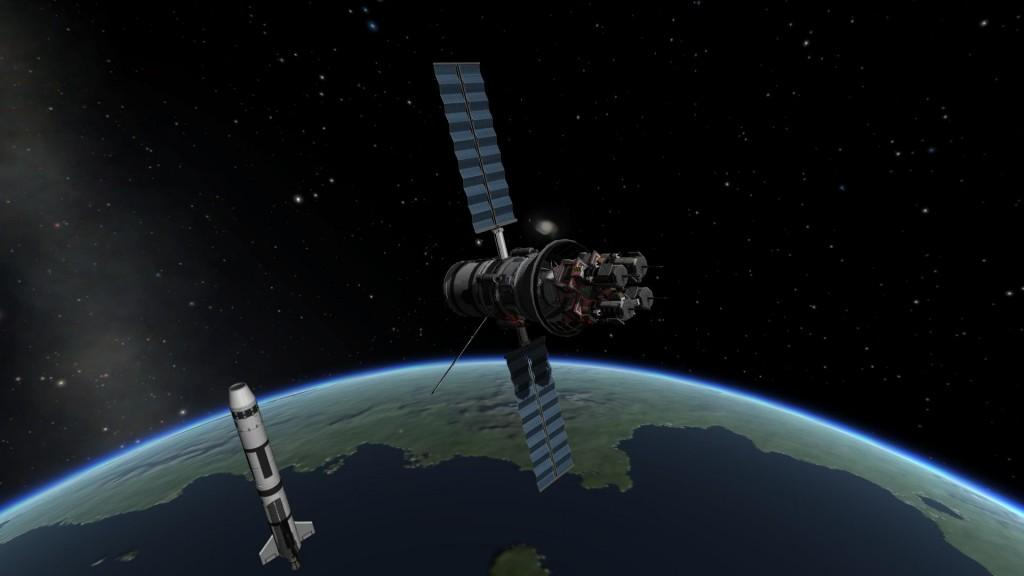body: (428, 242, 667, 333)
solar: (420, 56, 517, 231), (507, 349, 576, 491)
thruster: (279, 556, 305, 572)
